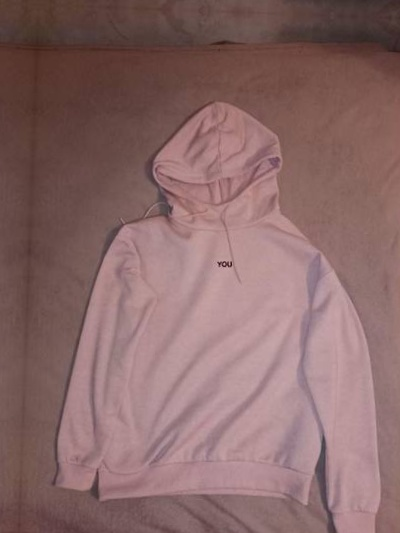Hoodie: (36, 71, 400, 533), (0, 56, 19, 520)
